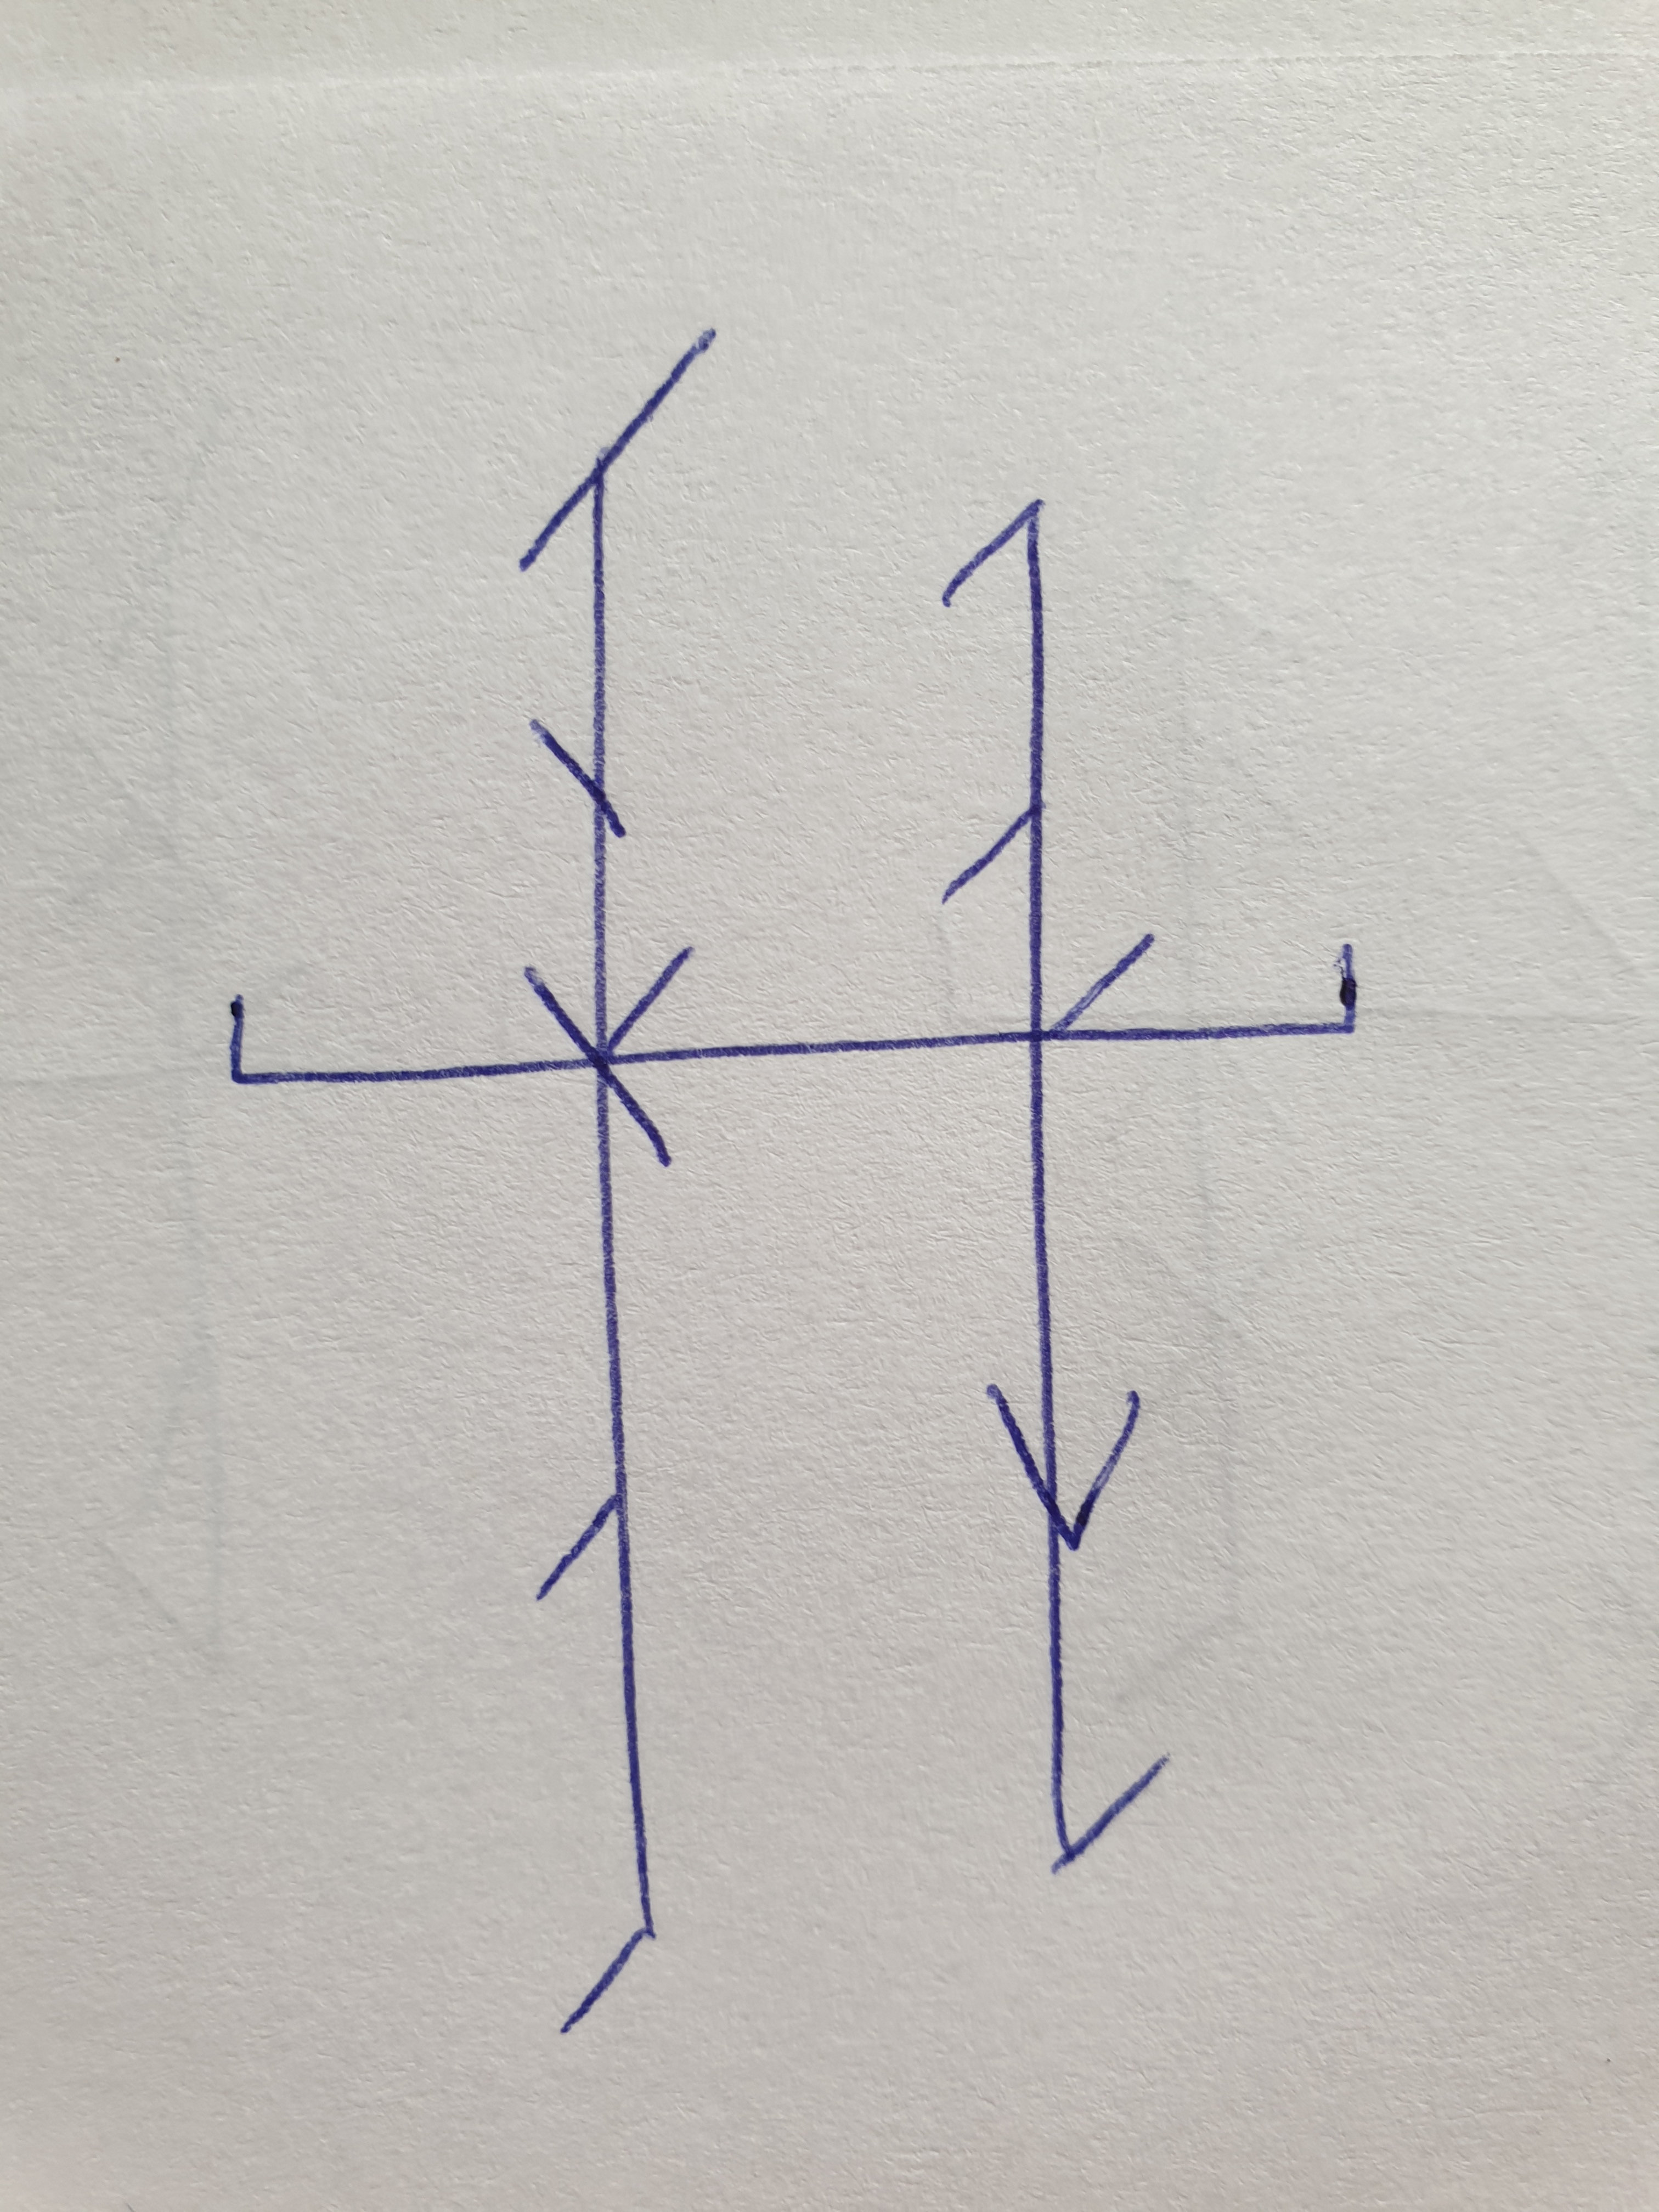Bar: (516, 324, 718, 2031), (936, 496, 1171, 1872)
Barcode: (230, 324, 1361, 2029)
End: (1152, 946, 1364, 1043)
Start: (230, 993, 532, 1087)
